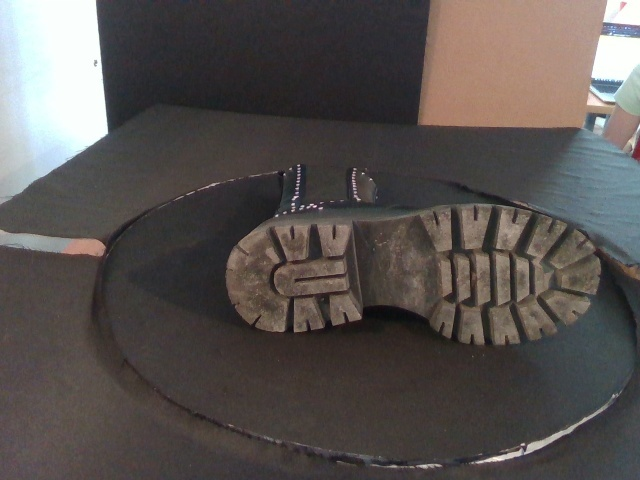shoe: (225, 163, 602, 347)
